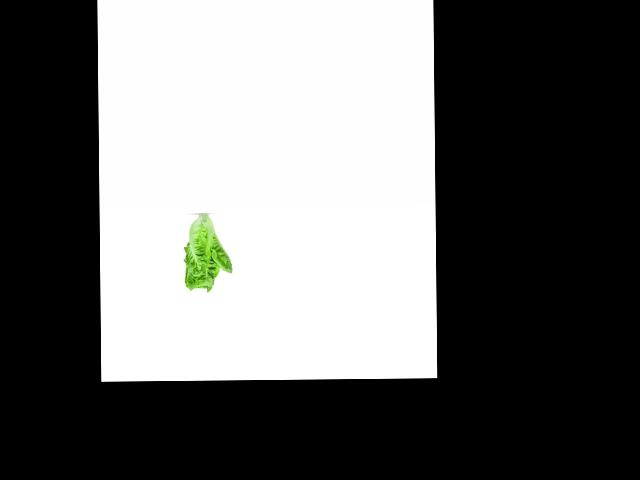lettuce: (180, 216, 232, 293)
